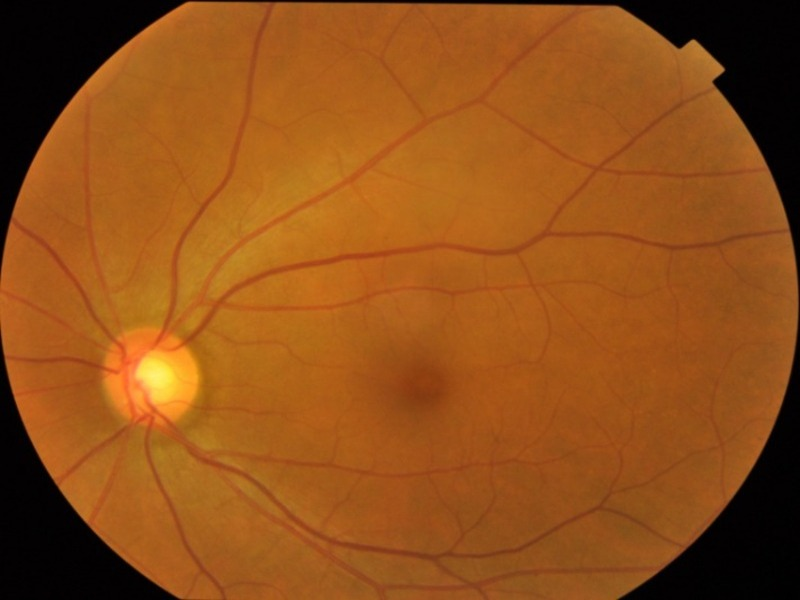Optic Cup: (139, 356, 173, 397)
Optic Disc: (101, 328, 201, 428)
